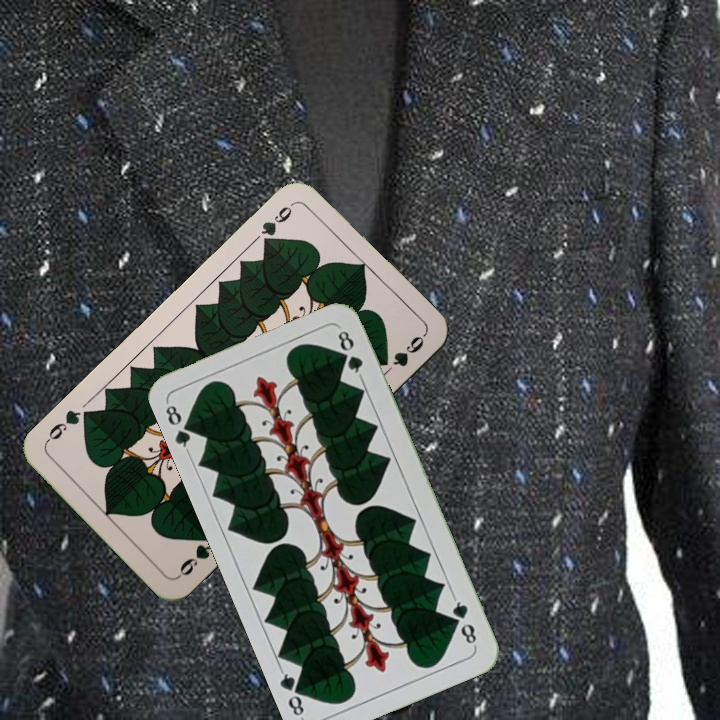G8: (161, 399, 199, 455), (448, 593, 480, 649)
G9: (174, 528, 214, 581), (257, 198, 297, 250)
